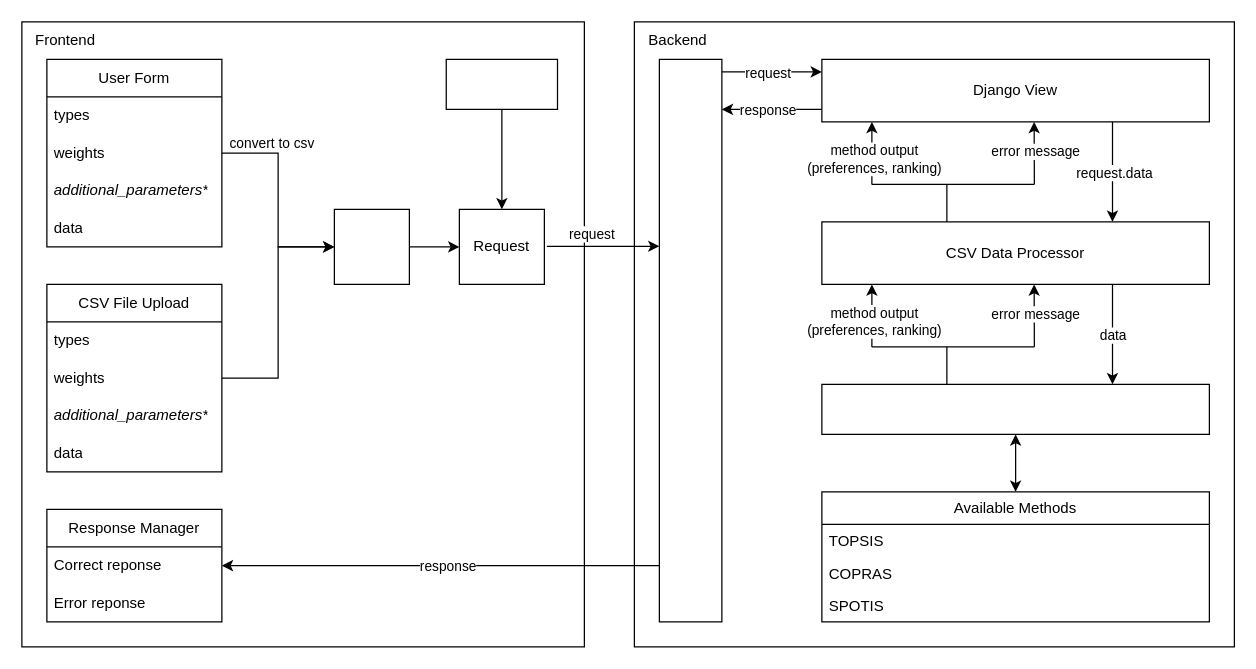
The diagram is 1256 pixels wide and 669 high, and some of its shapes have lost their labels. Here are the shapes that lost their labels. From the top down, the centre of each, then its label:
At pixel 501 83: "method name".
At pixel 371 246: "CSV Data".
At pixel 690 340: "API".
At pixel 1015 408: "Method Factory".
